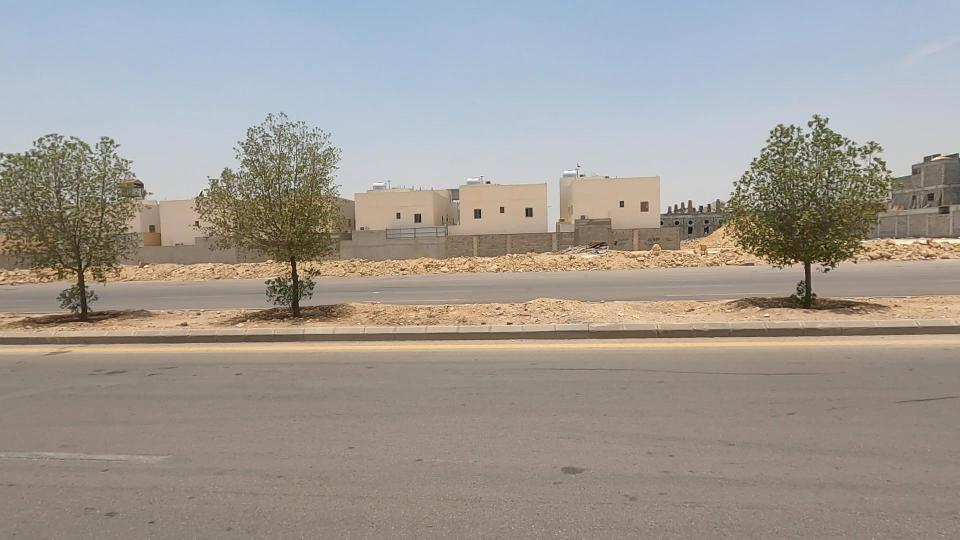CLUTTER_SIDEWALK: (423, 267, 749, 360), (329, 264, 499, 352)
